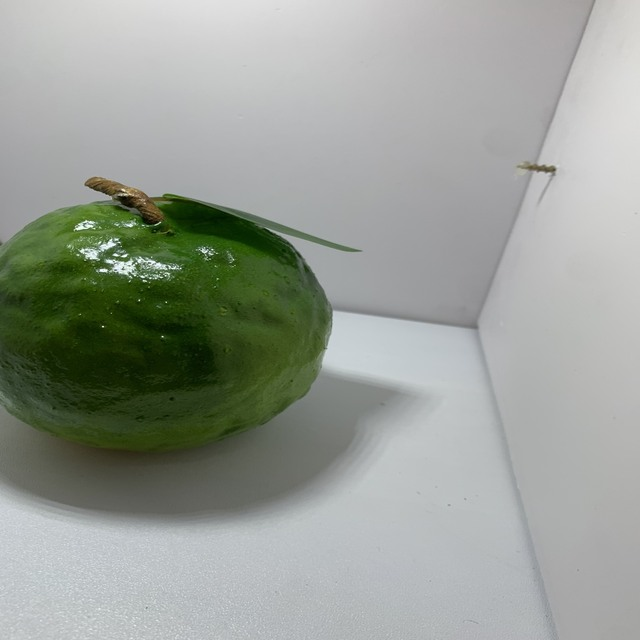Cam xanh: (0, 185, 348, 465)
